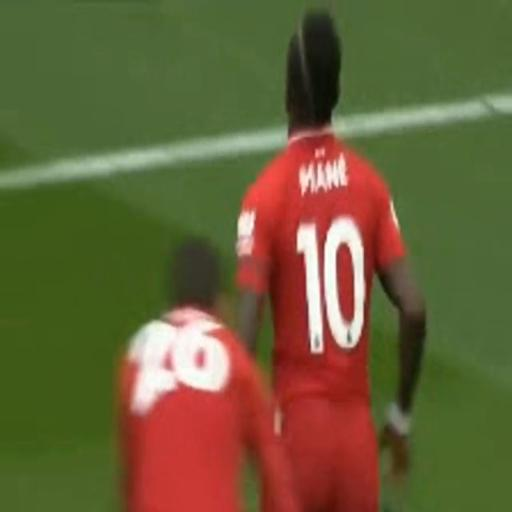nao-violencia: (105, 2, 436, 510)
